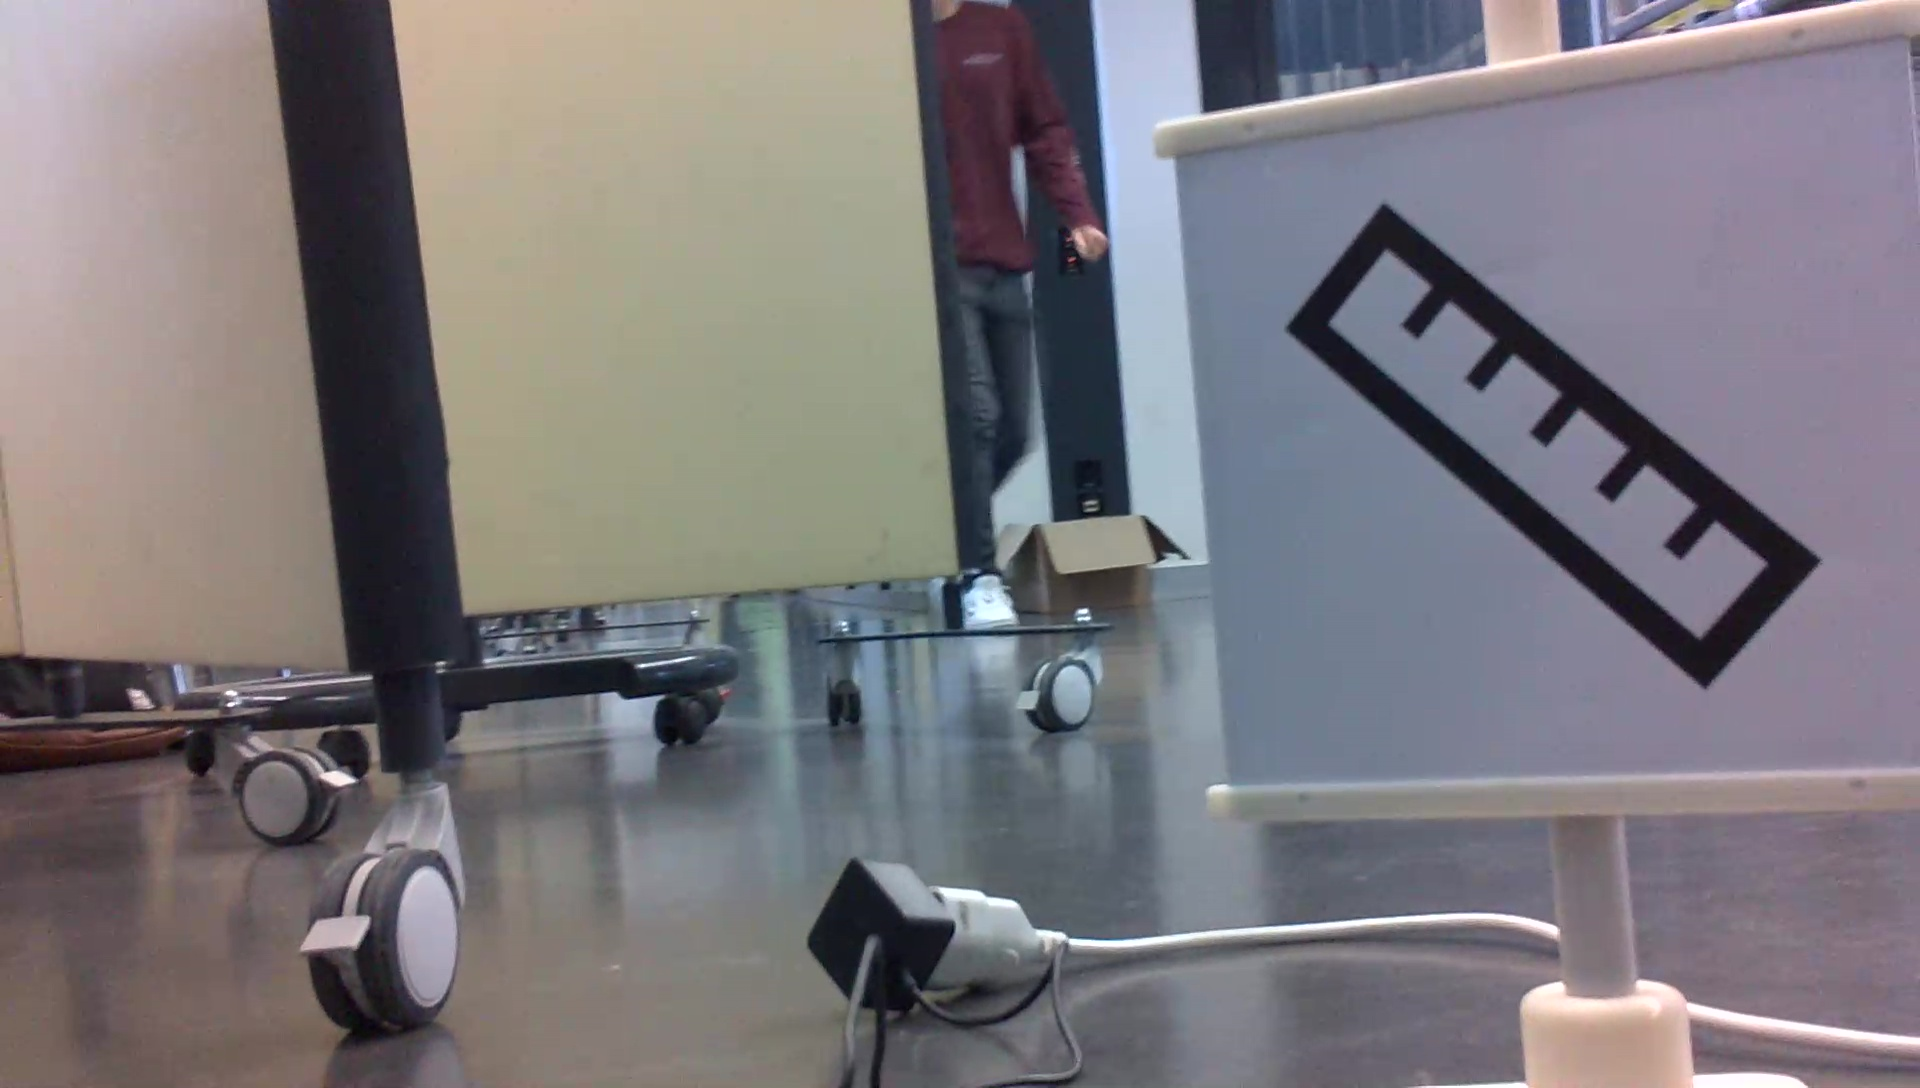ruler: (1269, 203, 1825, 698)
